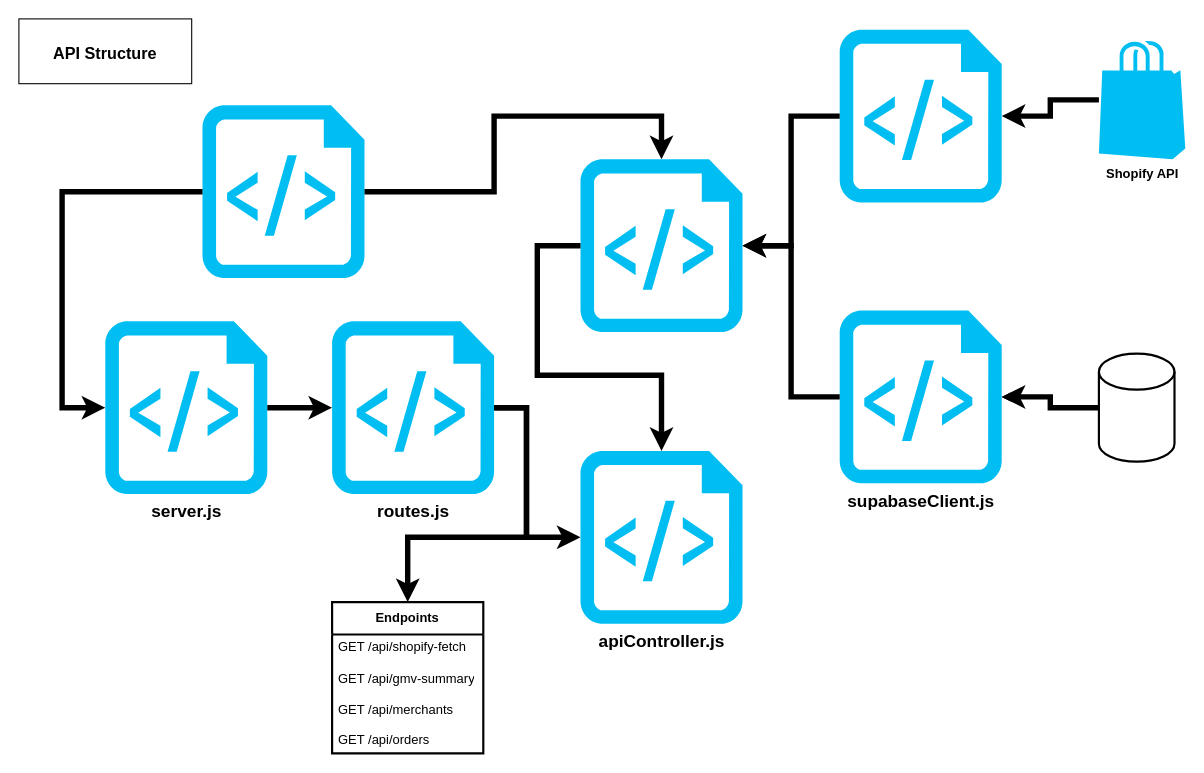
Some shapes in this 1204 by 773 pixel diagram are drawn without their labels. Each missing label, with the box of its shape:
apiService .js: (580, 159, 742, 332)
Database: (1097, 352, 1175, 462)
scheduler.js: (202, 105, 364, 278)
shopifyClient .js: (839, 29, 1001, 202)
